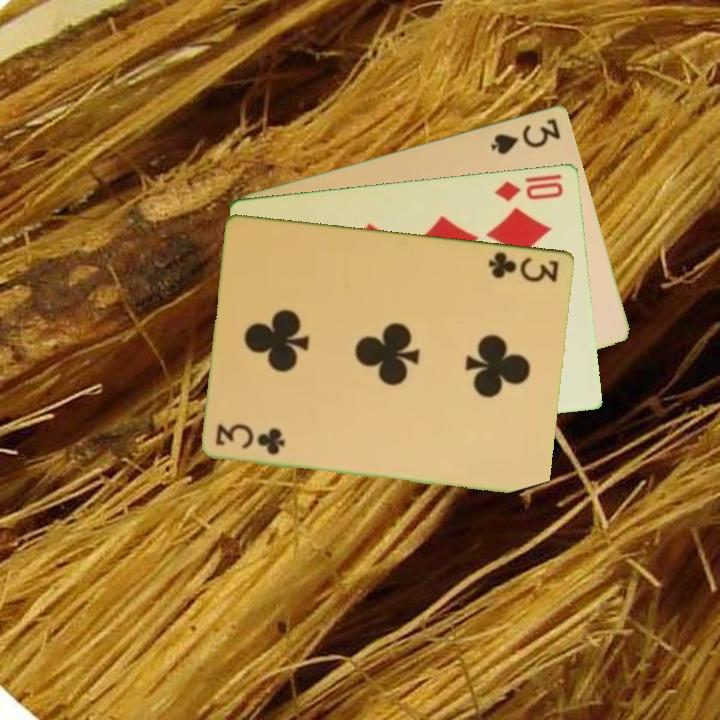10d: (492, 170, 566, 204)
3c: (485, 248, 562, 284), (212, 422, 289, 458)
3s: (487, 114, 564, 157)
